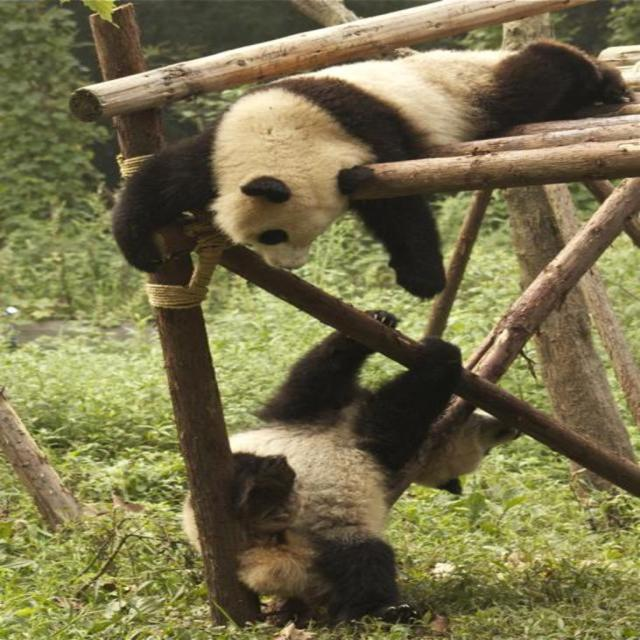panda: (106, 41, 633, 299), (172, 299, 530, 626)
